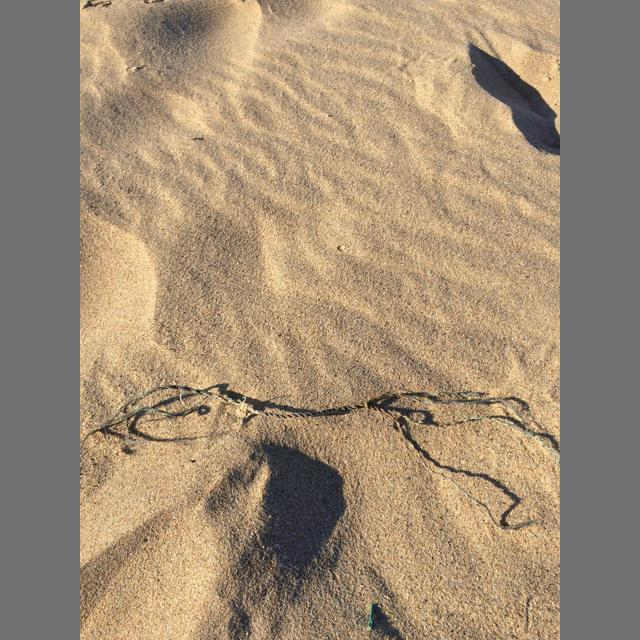litter: (97, 385, 560, 530)
